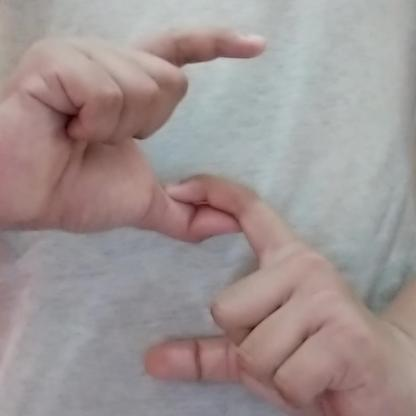S: (22, 20, 390, 416)
